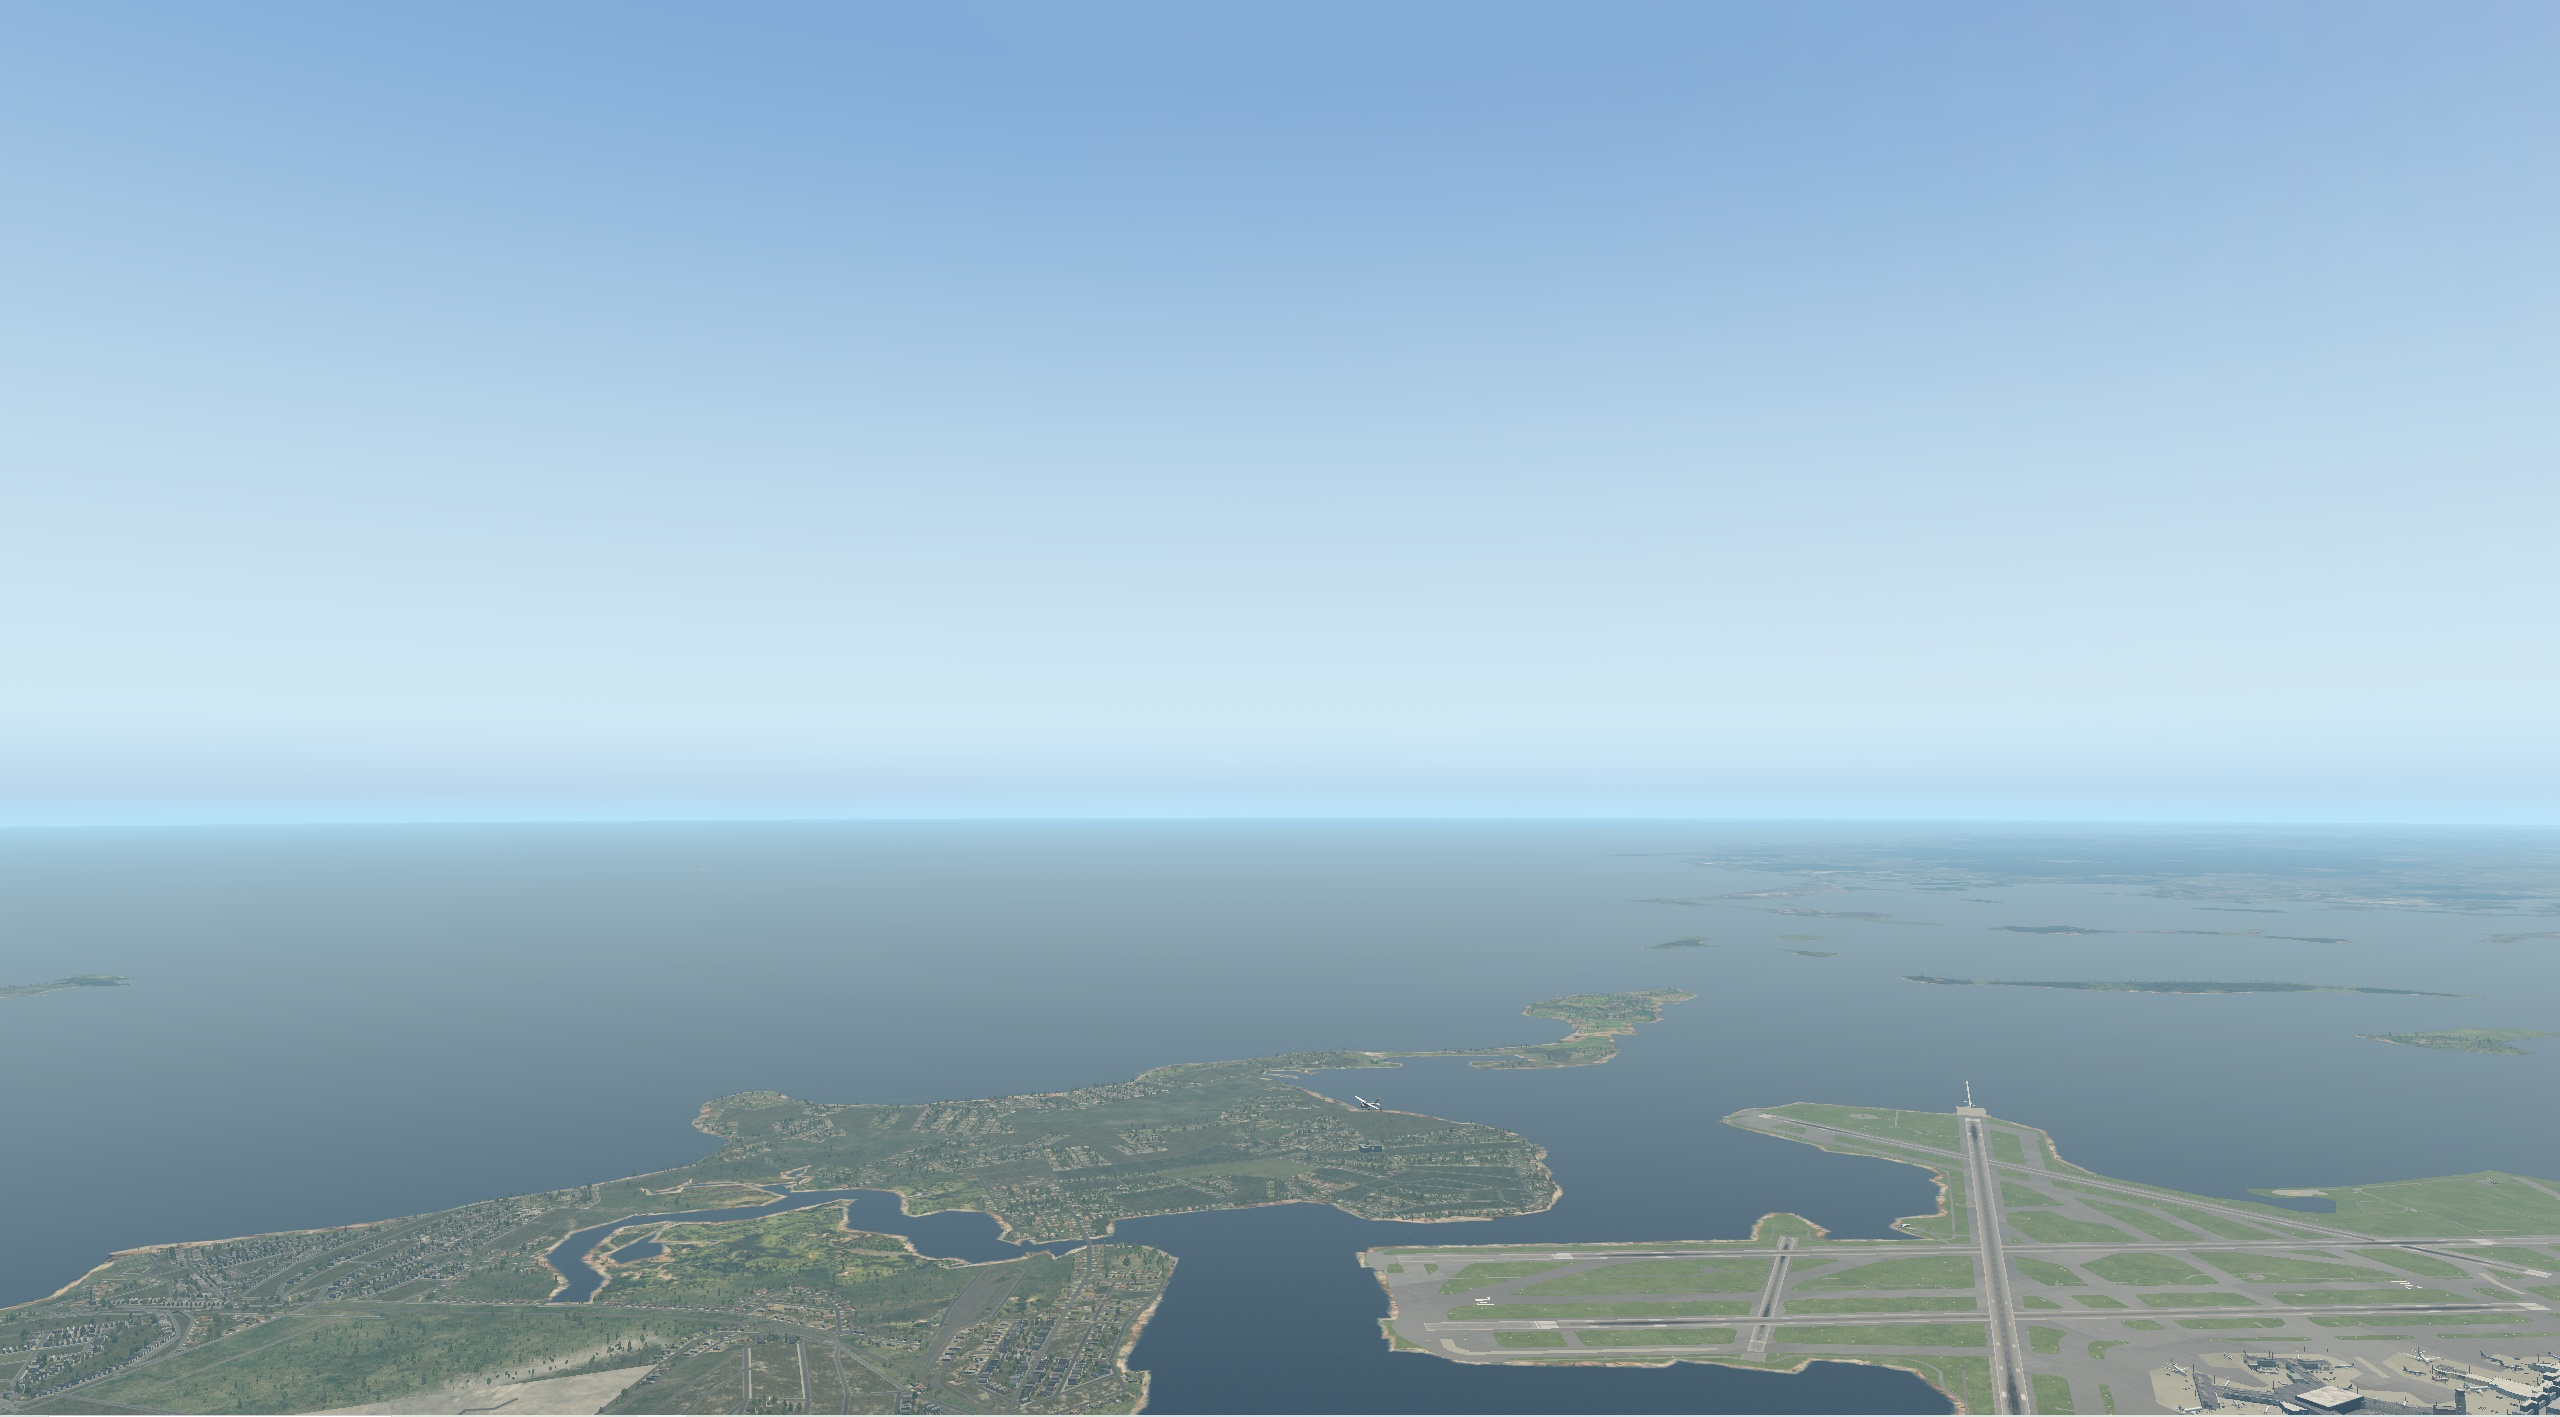aircraft: (1345, 1098, 1386, 1112)
